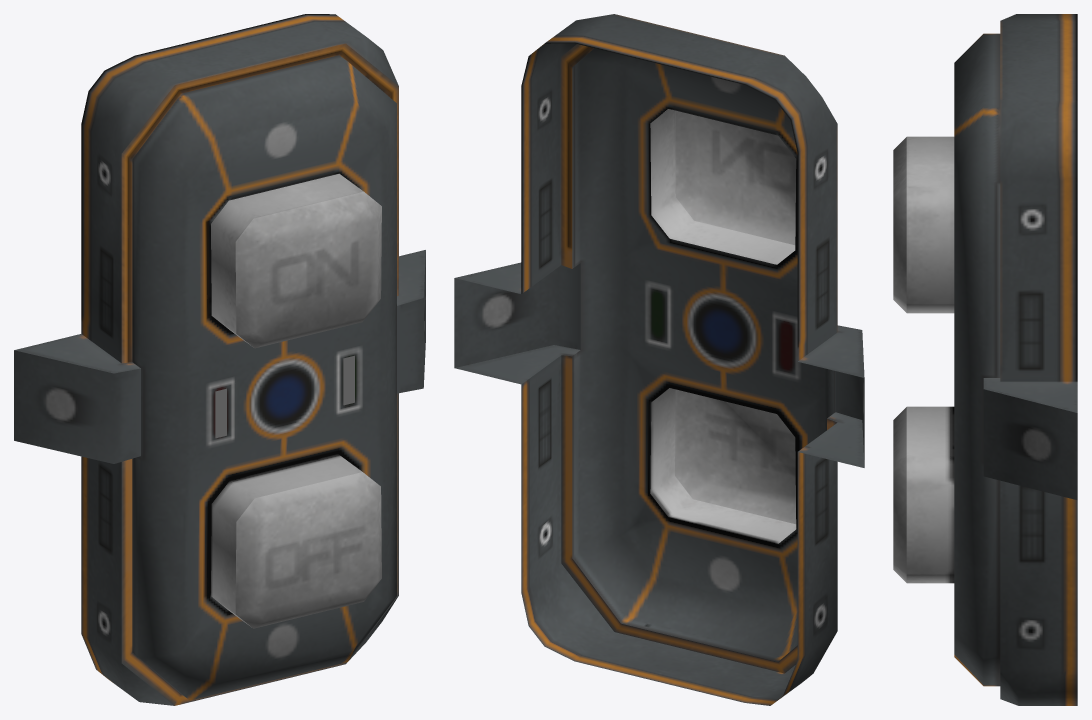
File: Button B2B.fbx
The picture shows the model from 3 angles, left to right: view 1: azimuth 30°, elevation 25°; view 2: azimuth 150°, elevation 25°; view 3: azimuth 270°, elevation 25°; orthographic projection. The views are drawn at different scales.
Parts seen in each view (by area): view 1: Button B2B, ButtonHandle B2B2, ButtonHandle B2B1; view 2: Button B2B, ButtonHandle B2B1, ButtonHandle B2B2; view 3: Button B2B, ButtonHandle B2B1, ButtonHandle B2B2.
Part boxes in pixels (bbox=[...]): Button B2B: bbox=[14, 14, 425, 705]; ButtonHandle B2B2: bbox=[211, 454, 381, 628]; ButtonHandle B2B1: bbox=[211, 173, 381, 348]; Button B2B: bbox=[454, 14, 864, 705]; ButtonHandle B2B1: bbox=[650, 109, 796, 264]; ButtonHandle B2B2: bbox=[650, 388, 796, 543]; Button B2B: bbox=[954, 14, 1077, 705]; ButtonHandle B2B1: bbox=[893, 136, 954, 313]; ButtonHandle B2B2: bbox=[893, 406, 954, 583].
Bounding box in the file's own units: 16.09 × 23.17 × 6.48.
3 materials, 1 textured.
